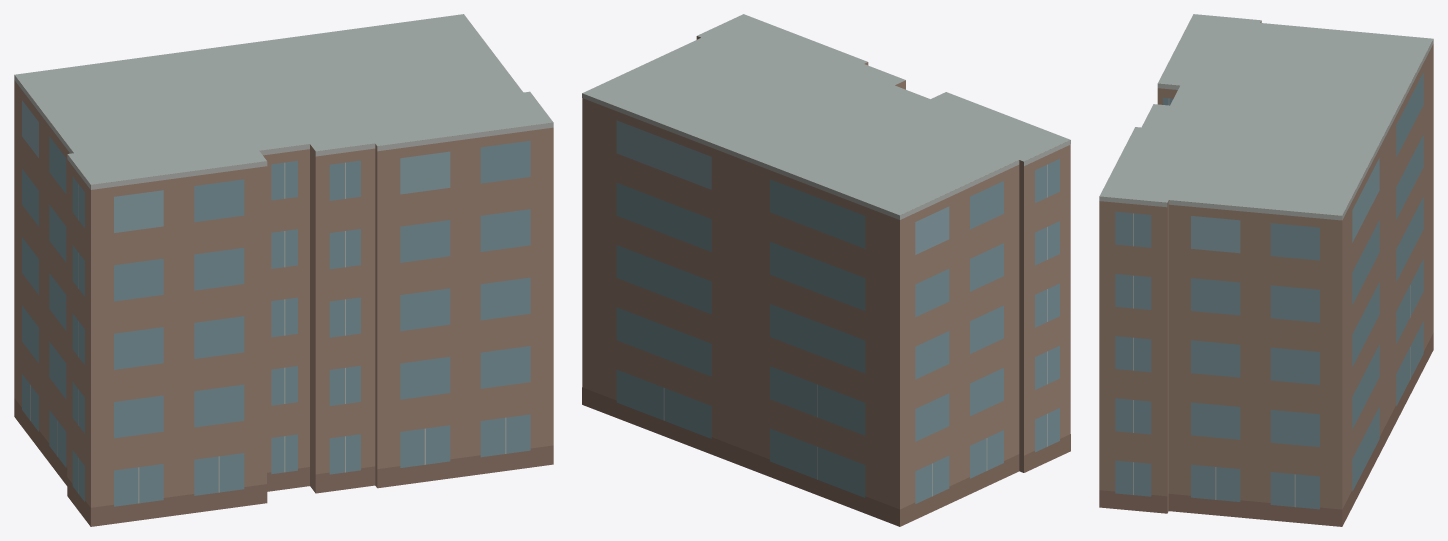
File: survey-upis-32741696.glb
3 renders of one model, left to right at view 1: azimuth 30°, elevation 25°; view 2: azimuth 150°, elevation 25°; view 3: azimuth 270°, elevation 25°, orthographic. The views are drawn at different scales.
Parts seen in each view (by area): view 1: survey-upis-32741696.tmp; view 2: survey-upis-32741696.tmp; view 3: survey-upis-32741696.tmp.
Boxes of the visible parts, bbox=[...] form: survey-upis-32741696.tmp: bbox=[14, 14, 553, 526]; survey-upis-32741696.tmp: bbox=[582, 14, 1070, 526]; survey-upis-32741696.tmp: bbox=[1099, 14, 1433, 526].
Size of the model in its own units: 22.69 by 16.3 by 15.88.
